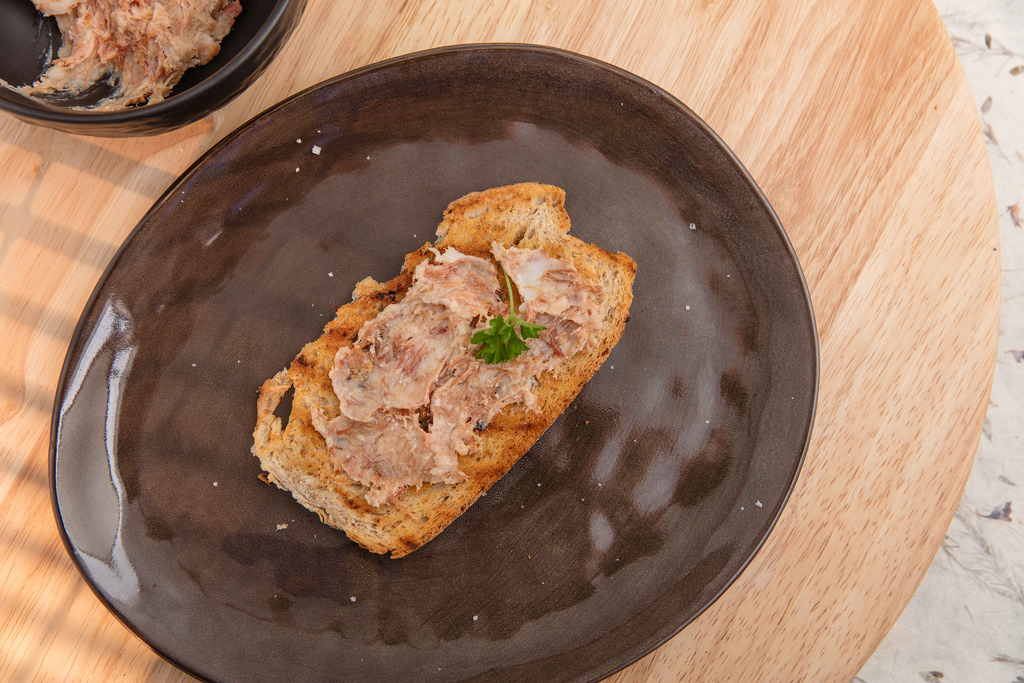slice of bread: (240, 182, 648, 562)
